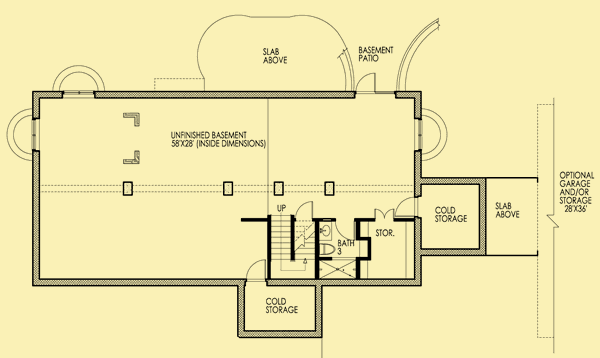door: (355, 69, 383, 98), (394, 196, 419, 219), (244, 257, 269, 280), (333, 217, 356, 241)
large_sink: (318, 242, 338, 257)
stairs: (271, 214, 317, 282)
window: (29, 116, 41, 152), (57, 89, 100, 99), (413, 116, 424, 151)
